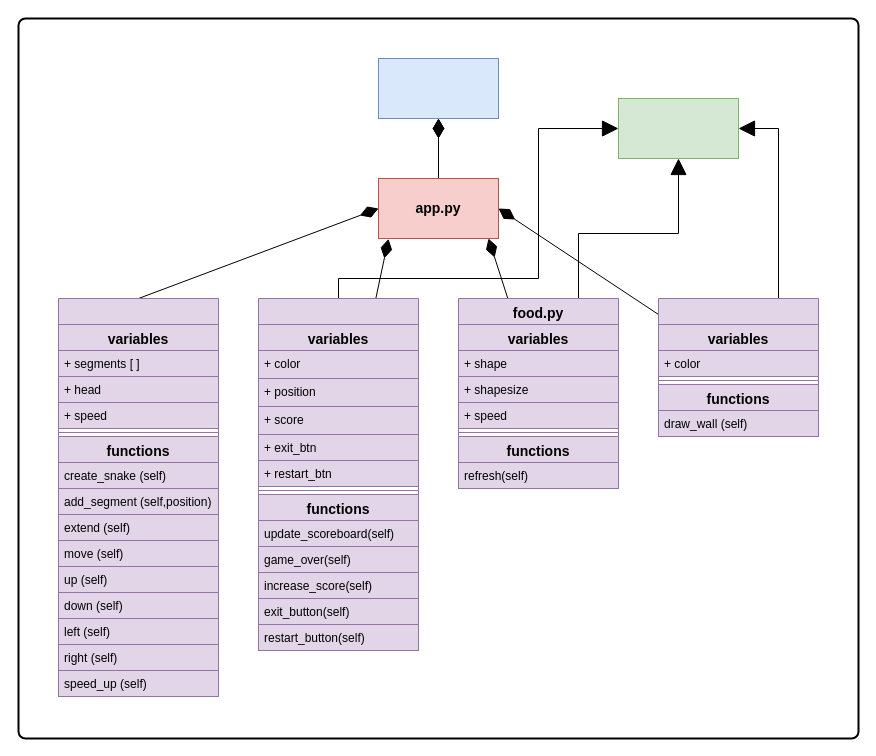
Some shapes in this 876 by 756 pixel diagram are drawn without their labels. Each missing label, with the box of its shape:
scoreboard.py: (258, 298, 418, 650)
Snake Game: (378, 58, 498, 118)
snake.py: (58, 298, 218, 696)
Turtle: (618, 98, 738, 158)
wall.py: (658, 298, 818, 436)
